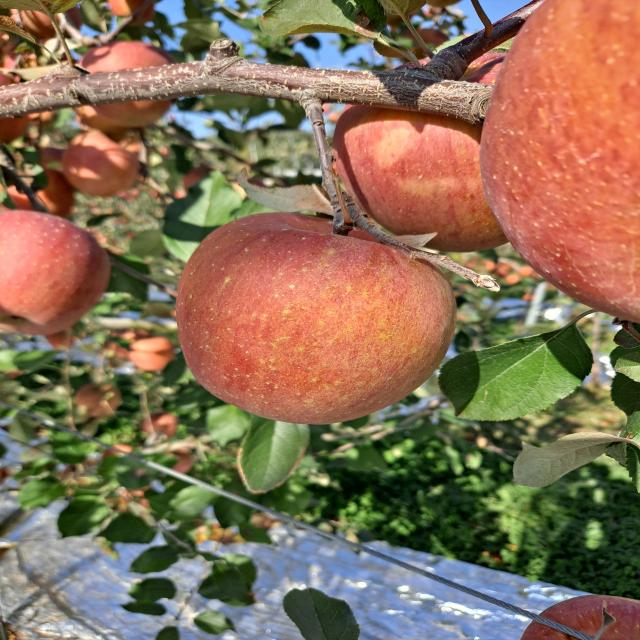fresh: (168, 201, 465, 430)
